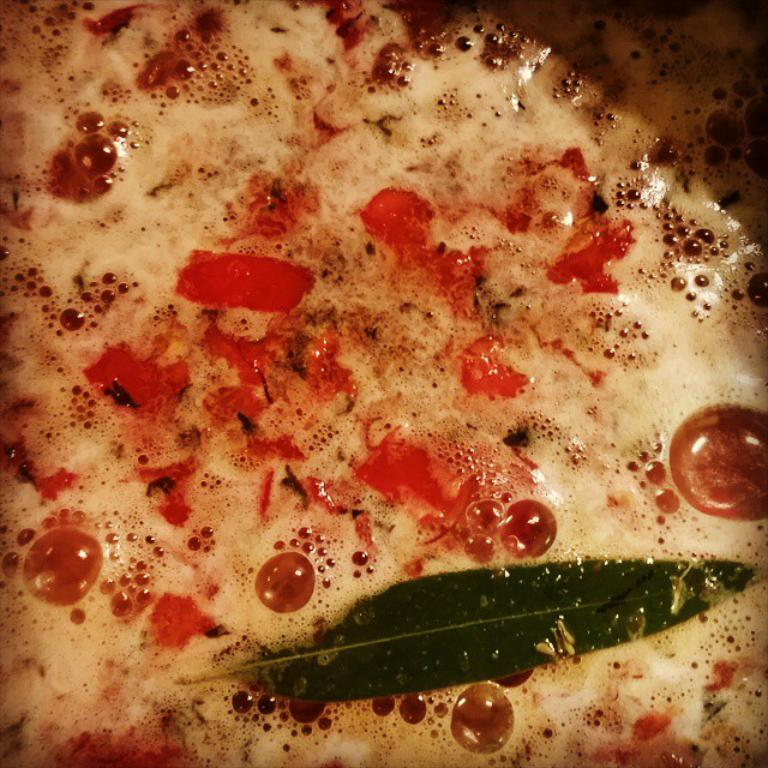Pizza: (0, 0, 768, 752)
